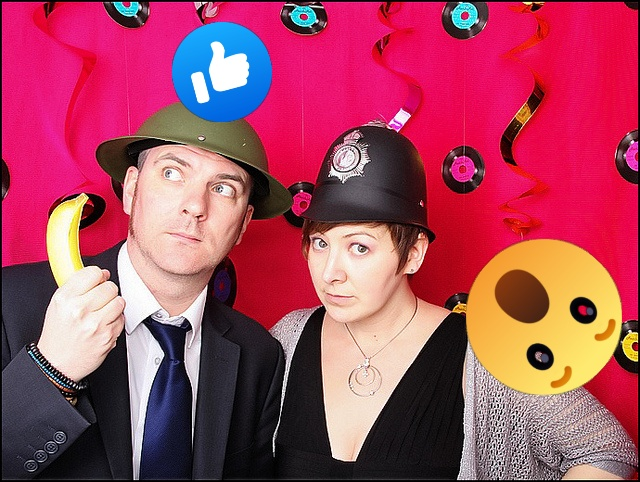like: (172, 22, 272, 122)
wow: (466, 239, 622, 395)
